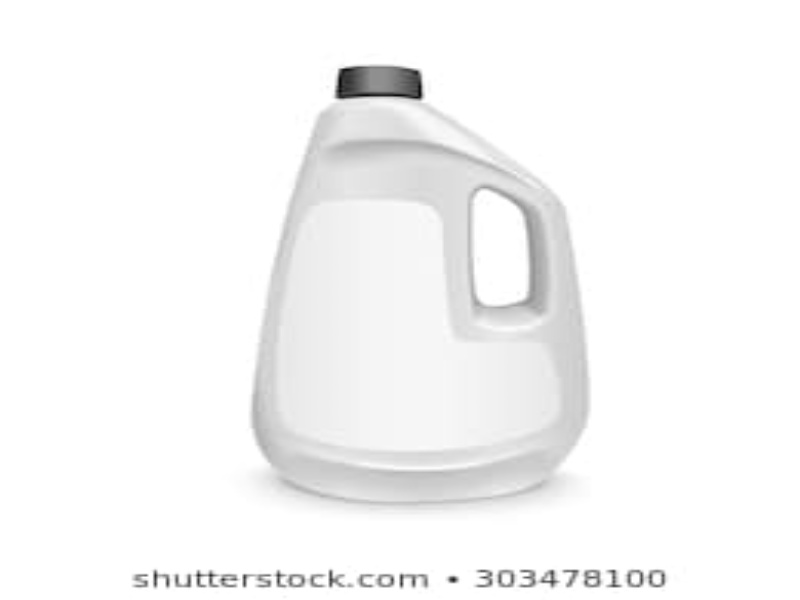bottle-cap: (332, 65, 427, 101)
detergent-bottle: (250, 62, 588, 500)
